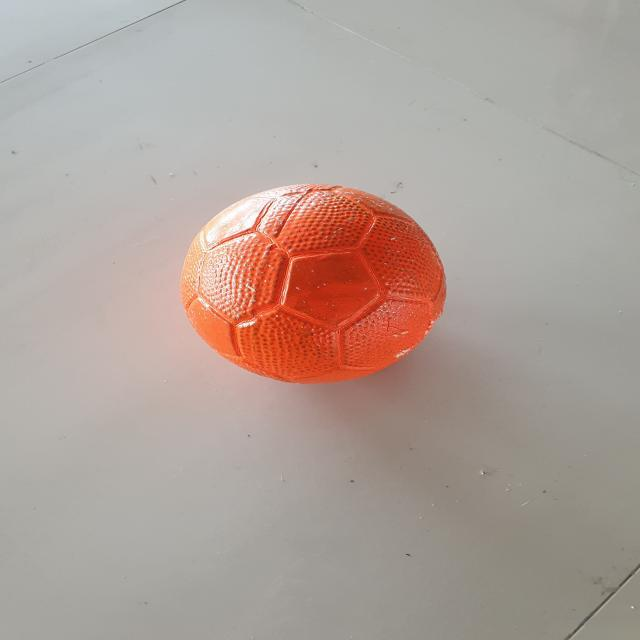bola: (179, 180, 451, 389)
